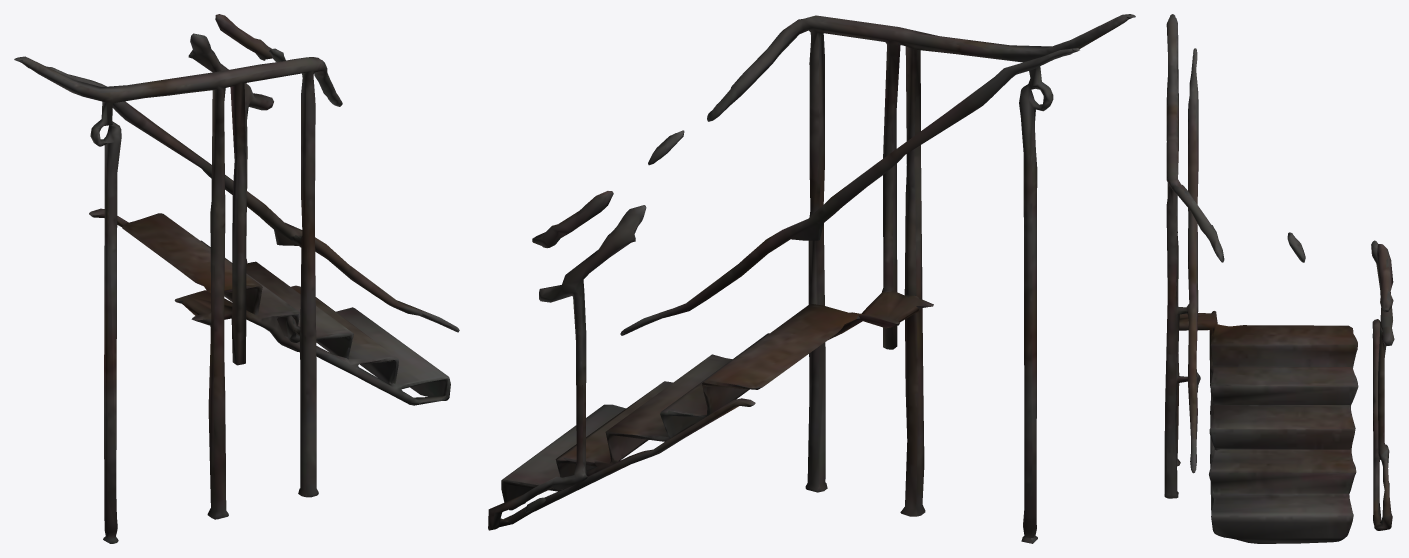
Rendered from chipped-iron-balcony-v002.glb.
The picture shows the model from 3 angles, left to right: view 1: azimuth 30°, elevation 25°; view 2: azimuth 150°, elevation 25°; view 3: azimuth 270°, elevation 25°; orthographic projection. The views are drawn at different scales.
Parts seen in each view (by area): view 1: chipped-iron-balcony; view 2: chipped-iron-balcony; view 3: chipped-iron-balcony.
Part boxes in pixels (left/top/right/bottom): chipped-iron-balcony: left=14, top=14, right=459, bottom=543; chipped-iron-balcony: left=488, top=14, right=1135, bottom=543; chipped-iron-balcony: left=1164, top=14, right=1394, bottom=543.
Size of the model in its own units: 1.29 by 1.35 by 0.748.
Materials: 1 (1 with a texture image).
